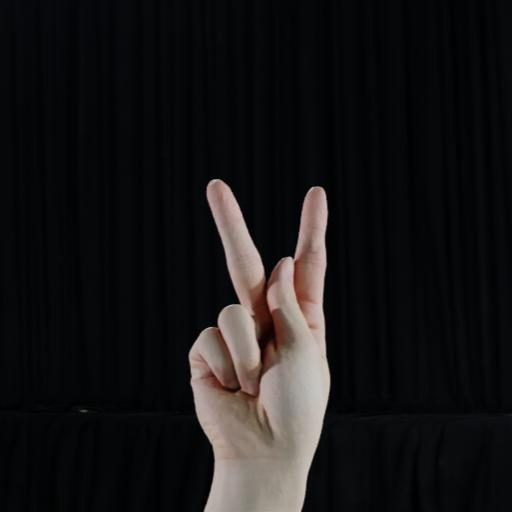K: (172, 164, 384, 512)
